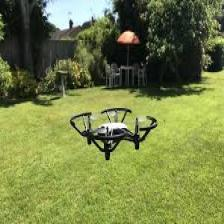drone: (69, 107, 156, 154)
